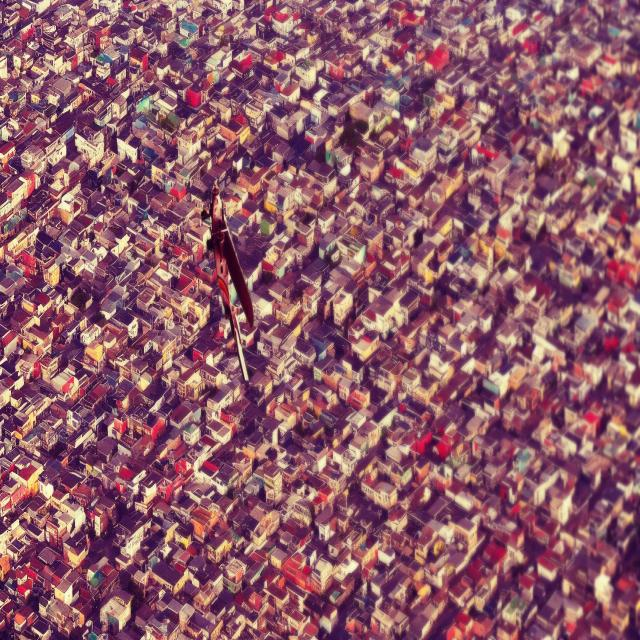airplane: (204, 181, 254, 383)
